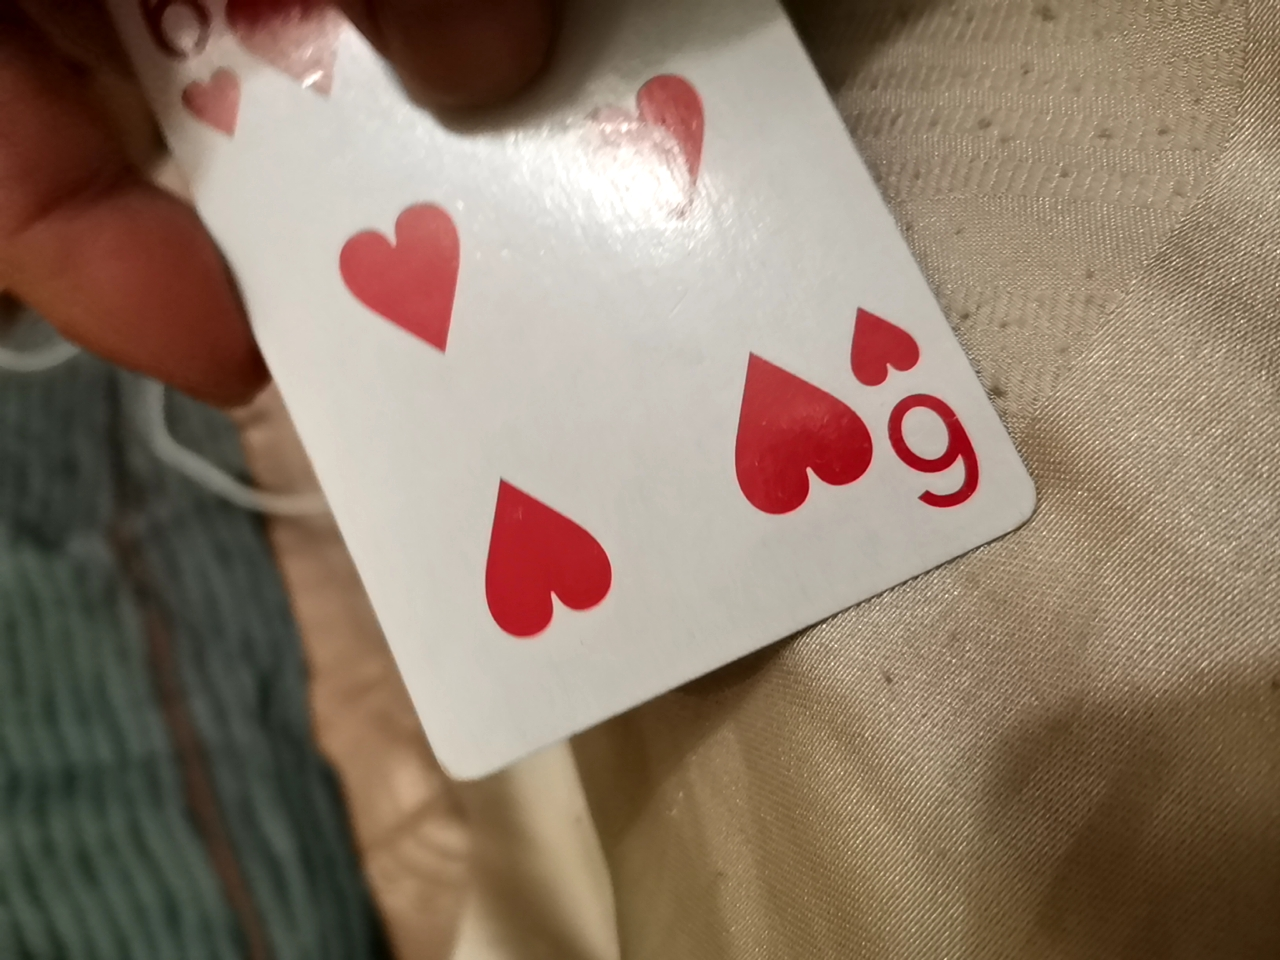hx 6: (107, 11, 1043, 810)
